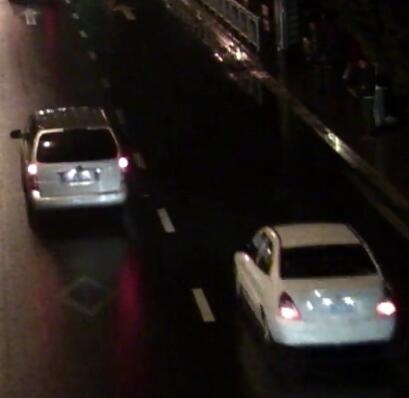car: (231, 221, 396, 350), (10, 105, 129, 209)
